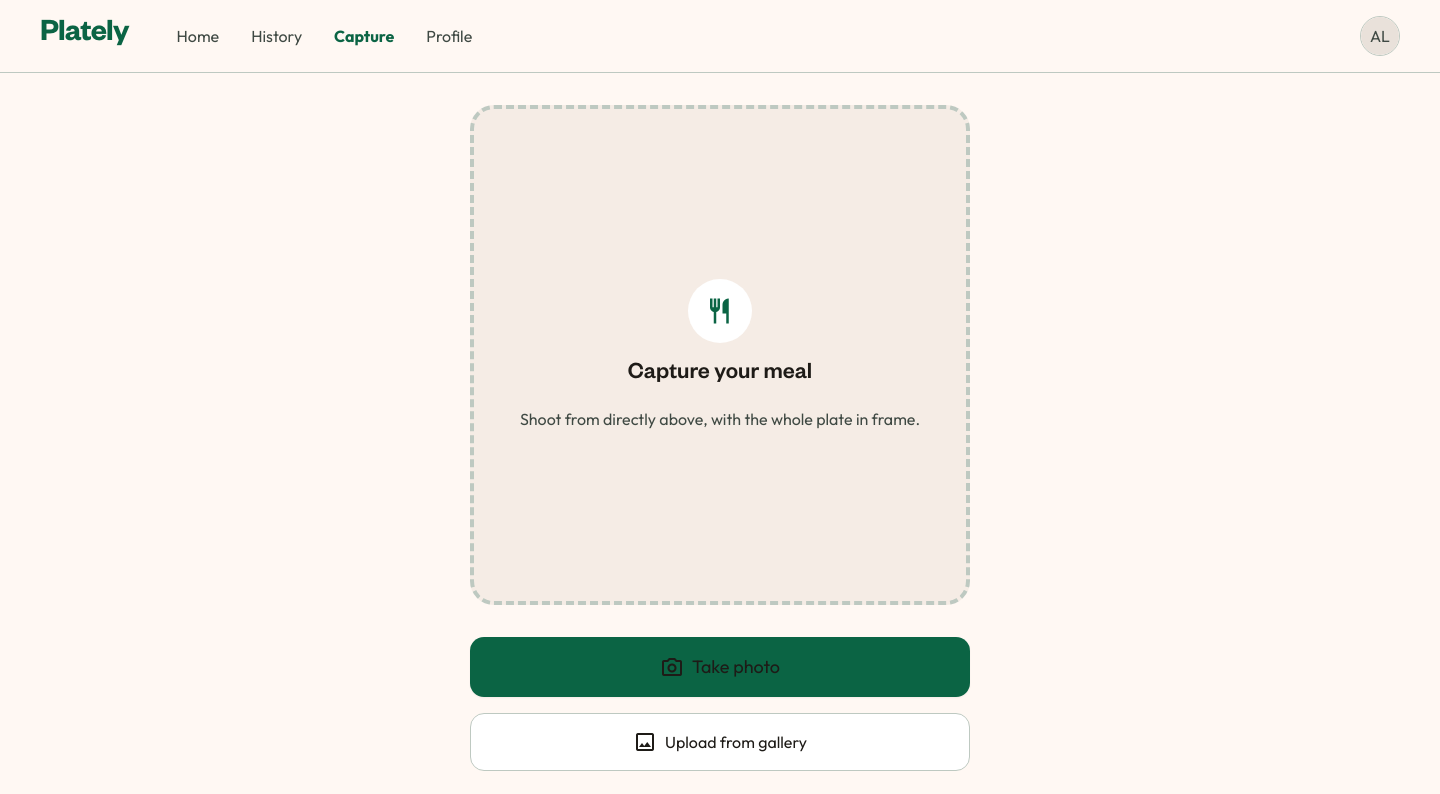
Test case: Classify › suggests uploading instead when the camera is blocked
The image size is (1440, 794).
Click the button "Take photo" at [720, 667], box top-left (470, 637), bottom-right (970, 697)
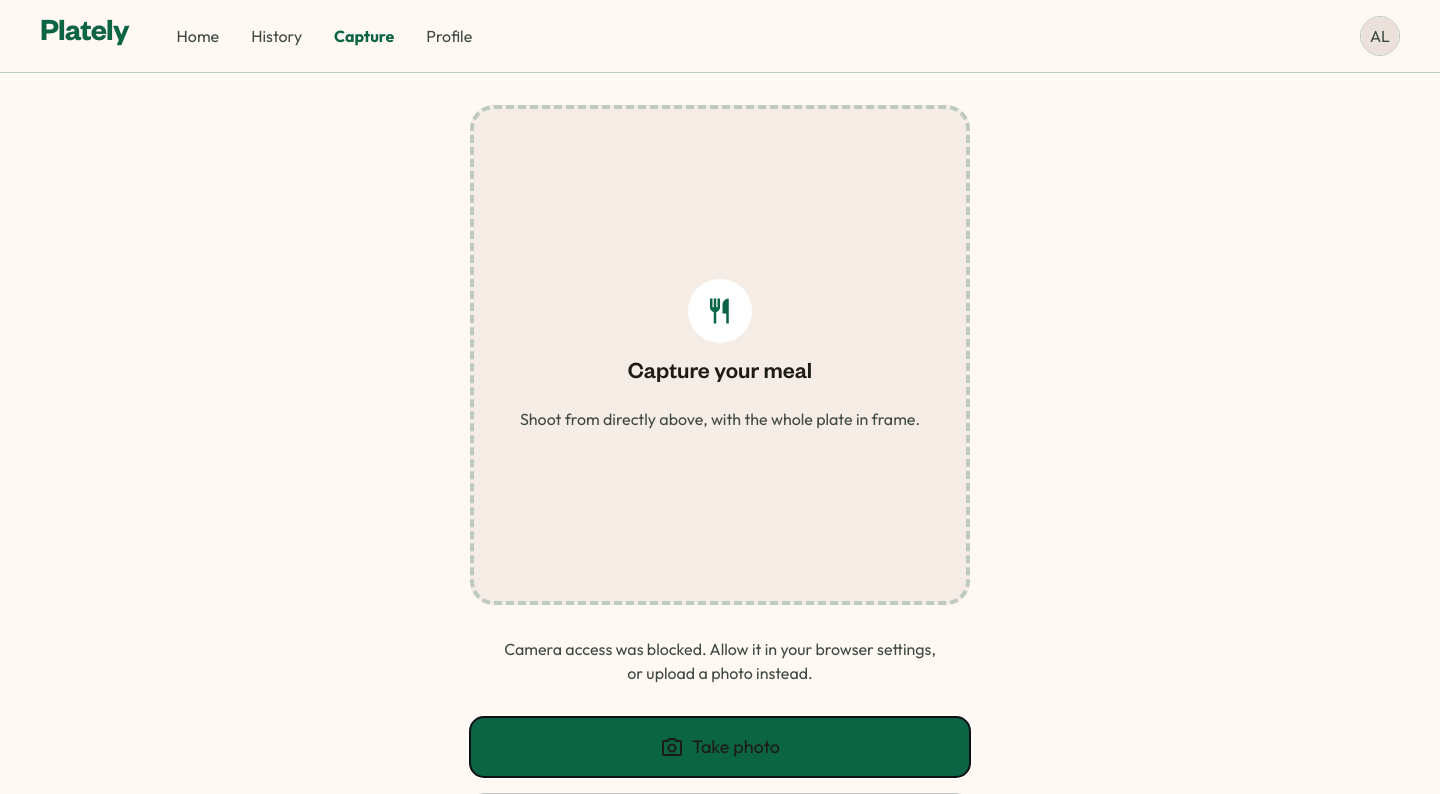
Expected: the text "Camera access was blocked" is shown, top-left (504, 639), bottom-right (936, 683)
